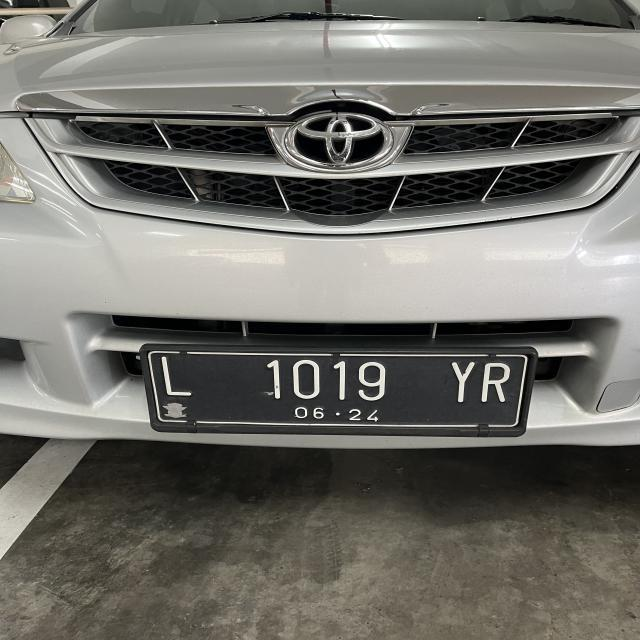0: (288, 357, 326, 405)
1: (265, 356, 285, 401), (333, 360, 354, 400)
9: (364, 360, 386, 400)
L: (152, 355, 195, 398)
R: (482, 361, 510, 404)
Y: (454, 359, 472, 408)
